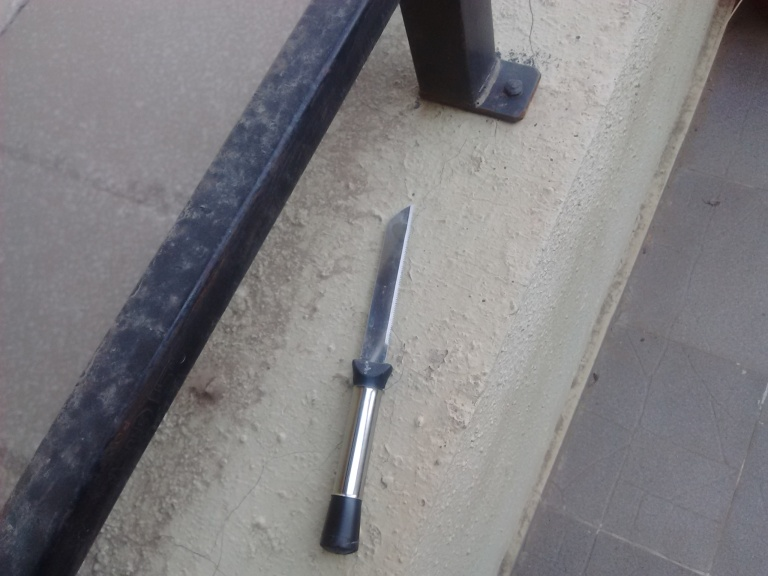knife: (318, 203, 414, 554)
